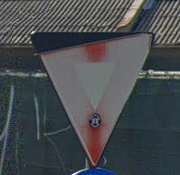cedeaza: (29, 29, 155, 169)
